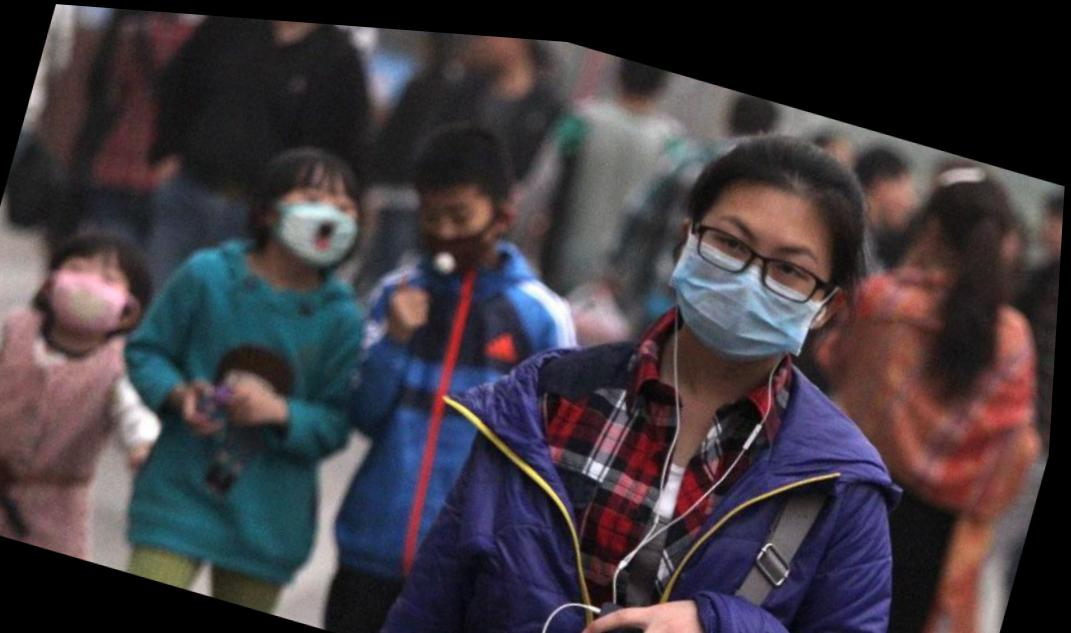OK: (669, 194, 848, 370), (38, 235, 147, 345), (273, 173, 372, 275)
WRONG: (414, 179, 507, 277)
